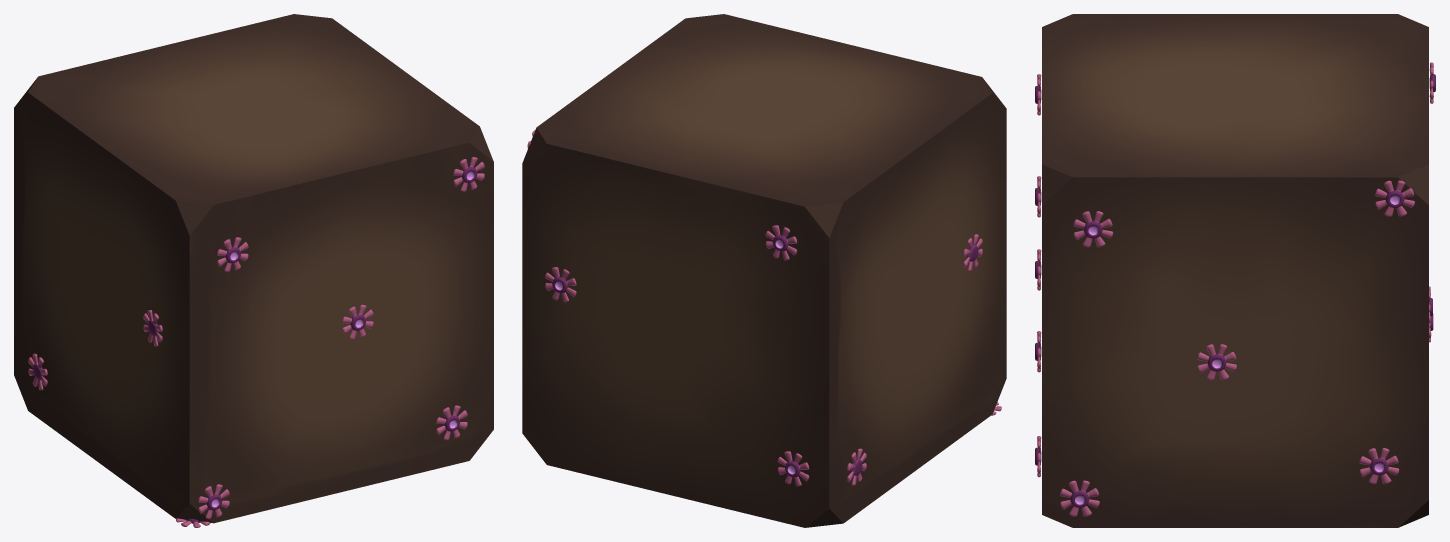
Rendered from FloraBlock.fbx.
3 views of the same model, side by side, from view 1: azimuth 30°, elevation 25°; view 2: azimuth 150°, elevation 25°; view 3: azimuth 270°, elevation 25° (orthographic). The views are drawn at different scales.
Parts seen in each view (by area): view 1: FloraBlock, FloraBunch; view 2: FloraBlock, FloraSolo.001; view 3: FloraBlock, FloraBunch.001, FloraBunch.
Part boxes in pixels (bbox=[...]): FloraBlock: bbox=[14, 14, 493, 523]; FloraBunch: bbox=[198, 157, 484, 519]; FloraBlock: bbox=[522, 14, 1006, 527]; FloraSolo.001: bbox=[545, 225, 809, 486]; FloraBlock: bbox=[1042, 14, 1428, 527]; FloraBunch.001: bbox=[1060, 180, 1414, 516]; FloraBunch: bbox=[1035, 74, 1041, 477].
Size of the model in its own units: 102 by 101 by 104.
